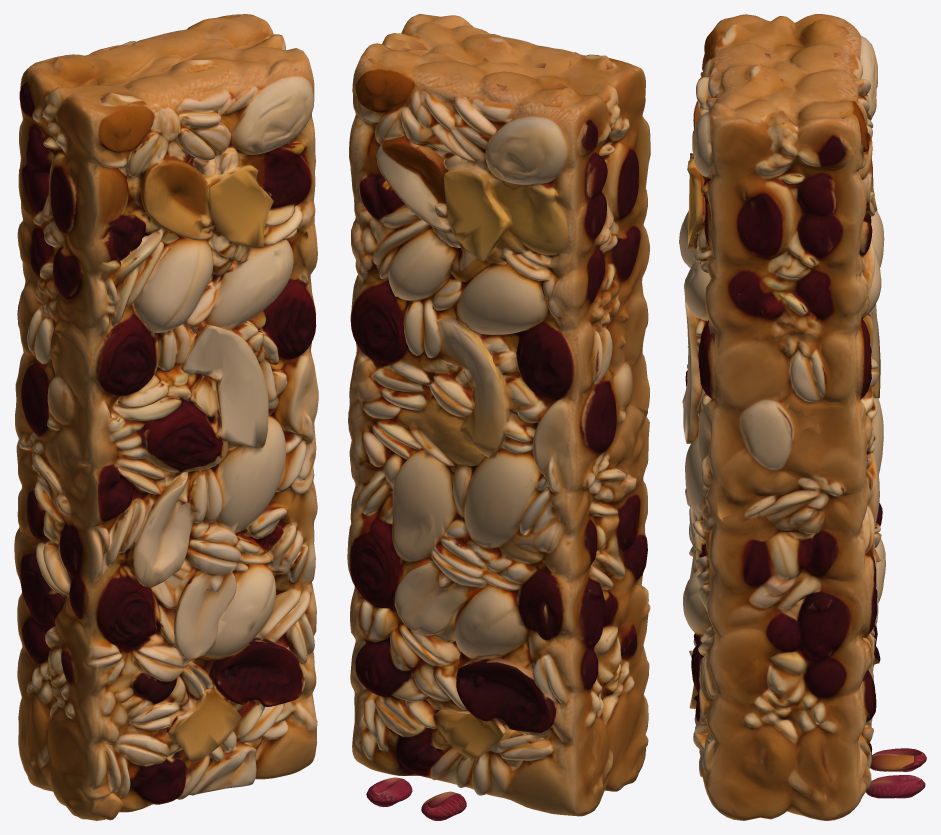
The model's file is barrita-simple.glb.
3 renders of one model, left to right at view 1: azimuth 30°, elevation 25°; view 2: azimuth 150°, elevation 25°; view 3: azimuth 270°, elevation 25°, orthographic. The views are drawn at different scales.
Visible parts, largest first — view 1: texture_pbr_v128; view 2: texture_pbr_v128; view 3: texture_pbr_v128.
Part boxes in pixels (x1,y1,x2,y2): texture_pbr_v128: [14, 14, 318, 820]; texture_pbr_v128: [347, 14, 650, 820]; texture_pbr_v128: [679, 14, 926, 820].
Size of the model in its own units: 0.4032 by 1.14 by 0.3592.
1 material, 1 textured.
